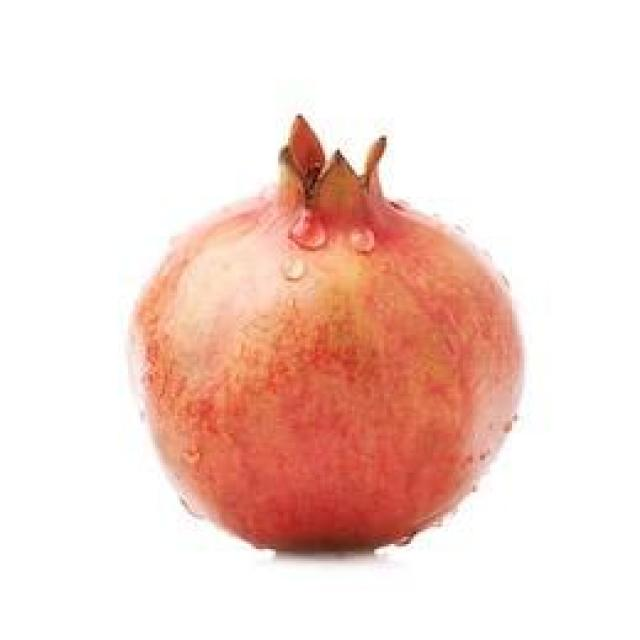Pomegranate: (119, 112, 532, 553)
